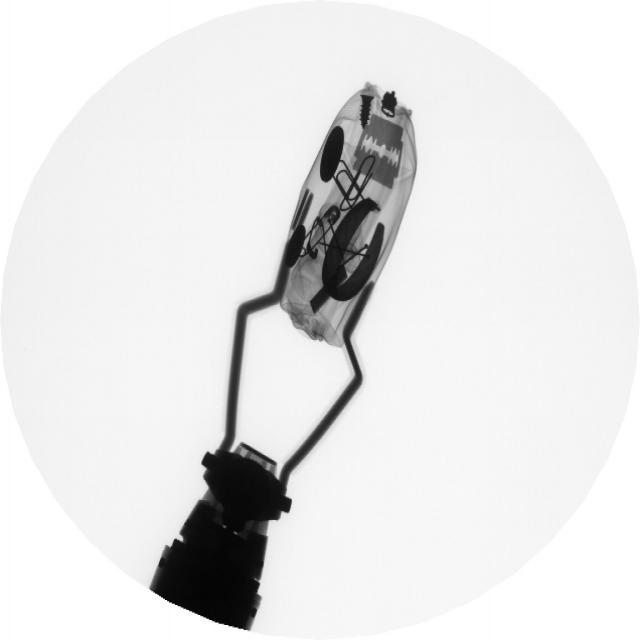BLADE: (355, 100, 408, 198)
